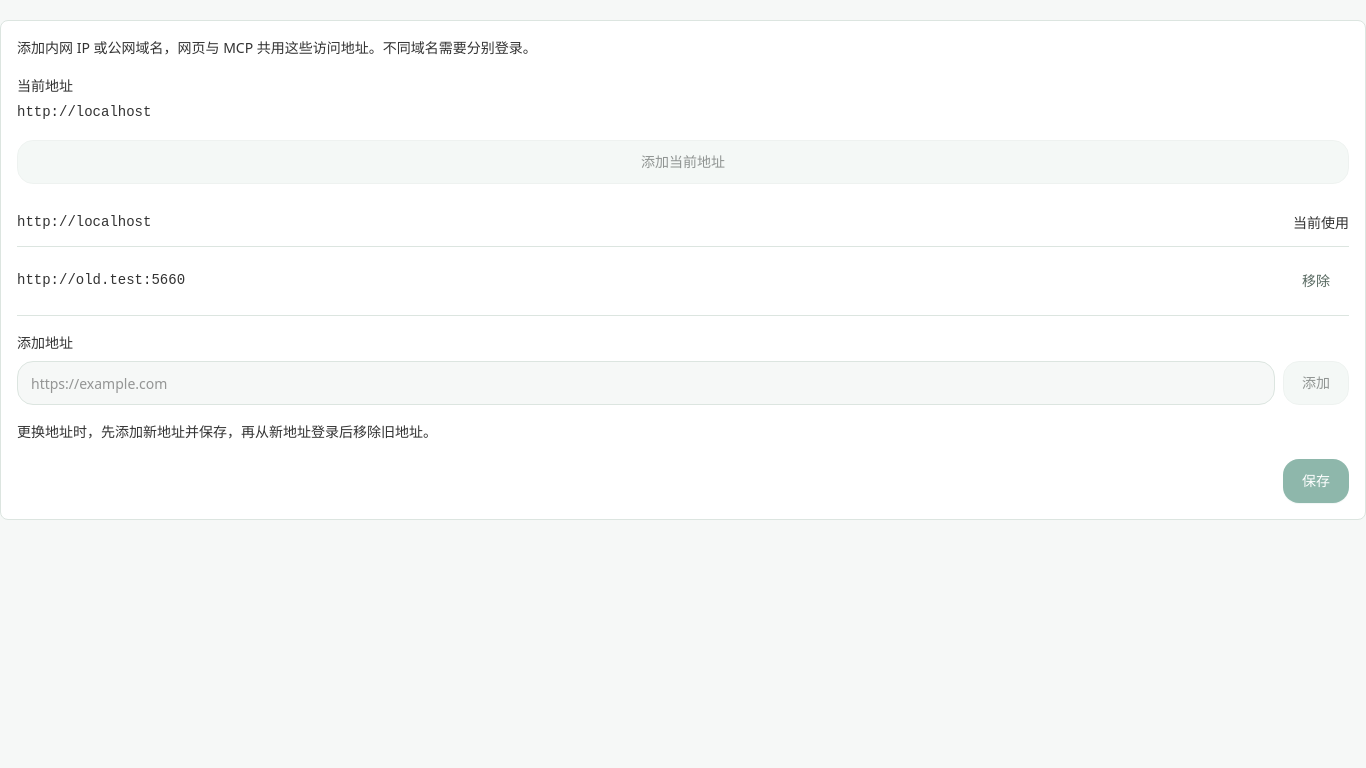
it: 访问地址编辑 › 更换入口时可以移除旧地址，保存失败保留草稿
Click the button with aria-label "移除 http://old.test:5660". click: (1316, 281)
box: [1283, 259, 1349, 303]
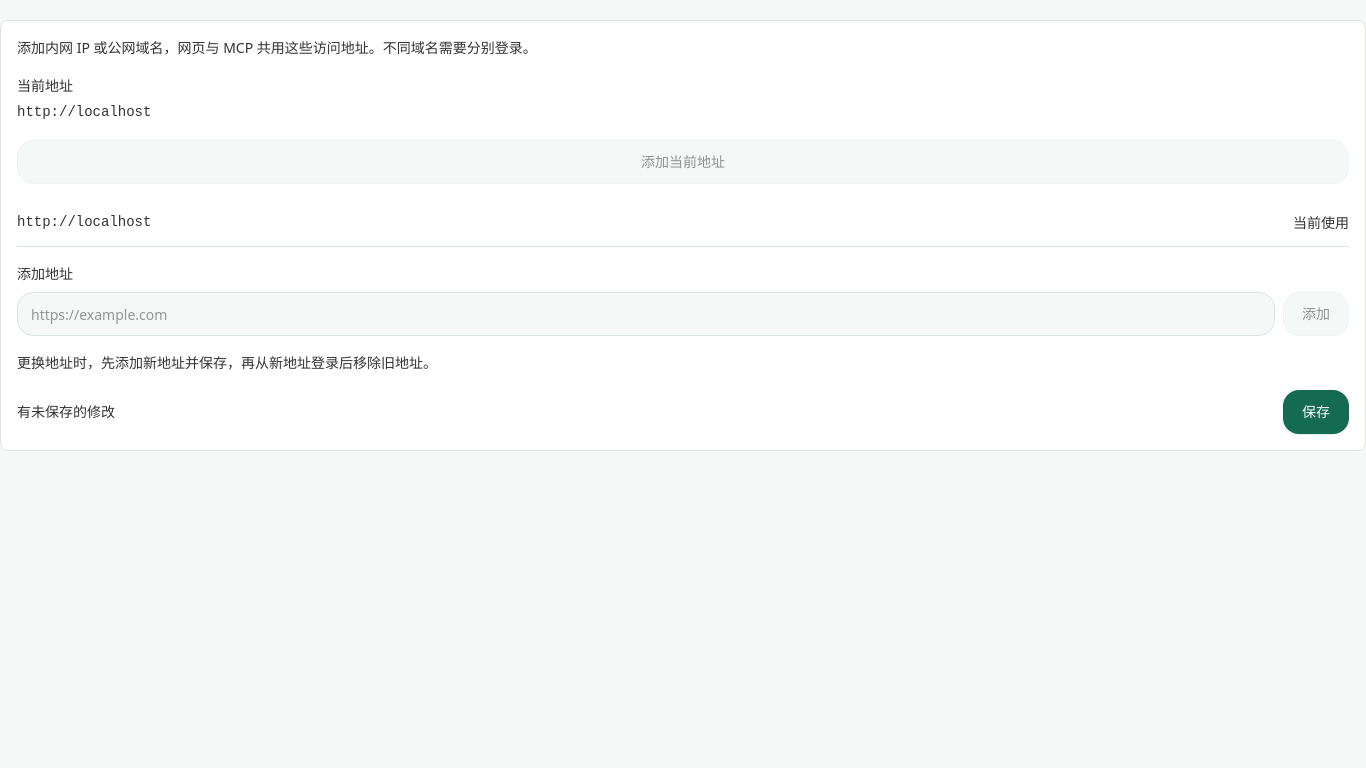
Type "https://new.test" into the field labelled "添加地址". click: (646, 314)
box: [17, 292, 1275, 336]
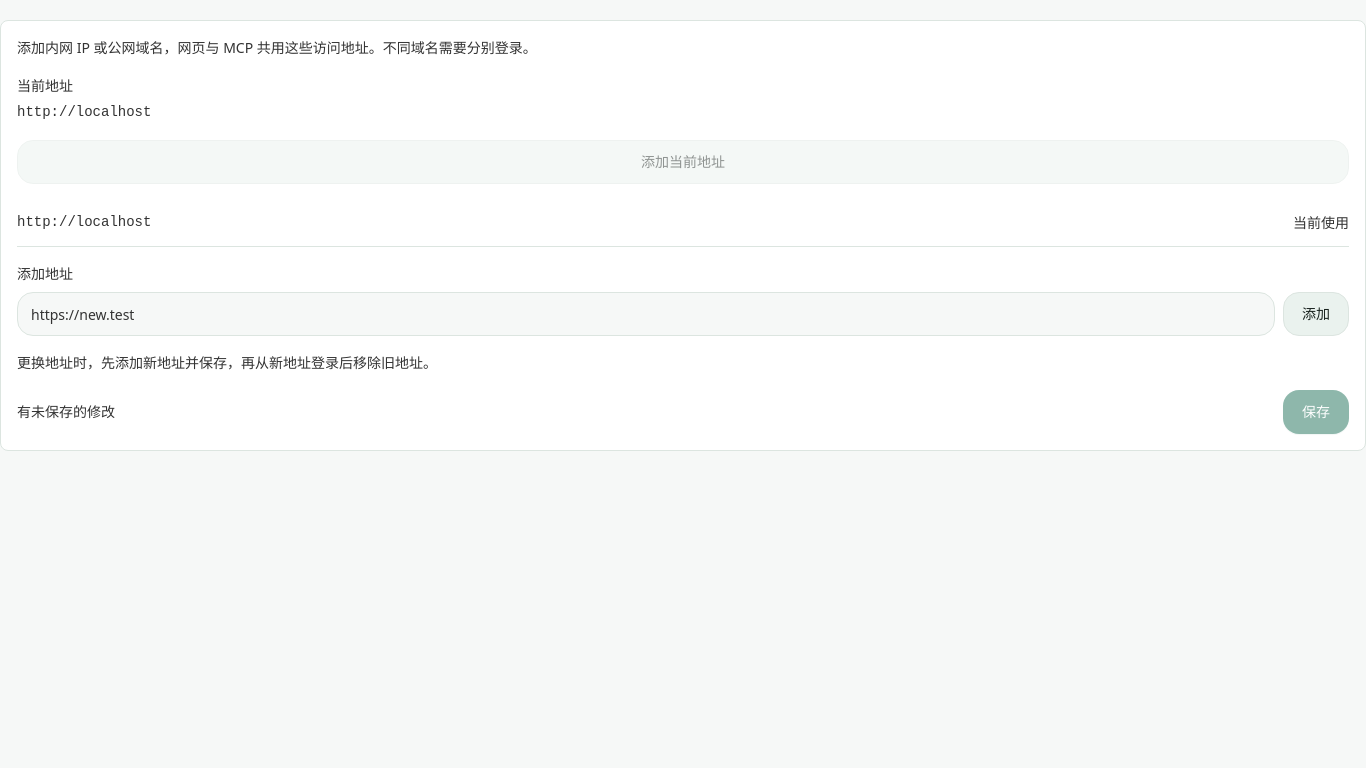
Click the button "添加". click: (1316, 314)
box: [1283, 292, 1349, 336]
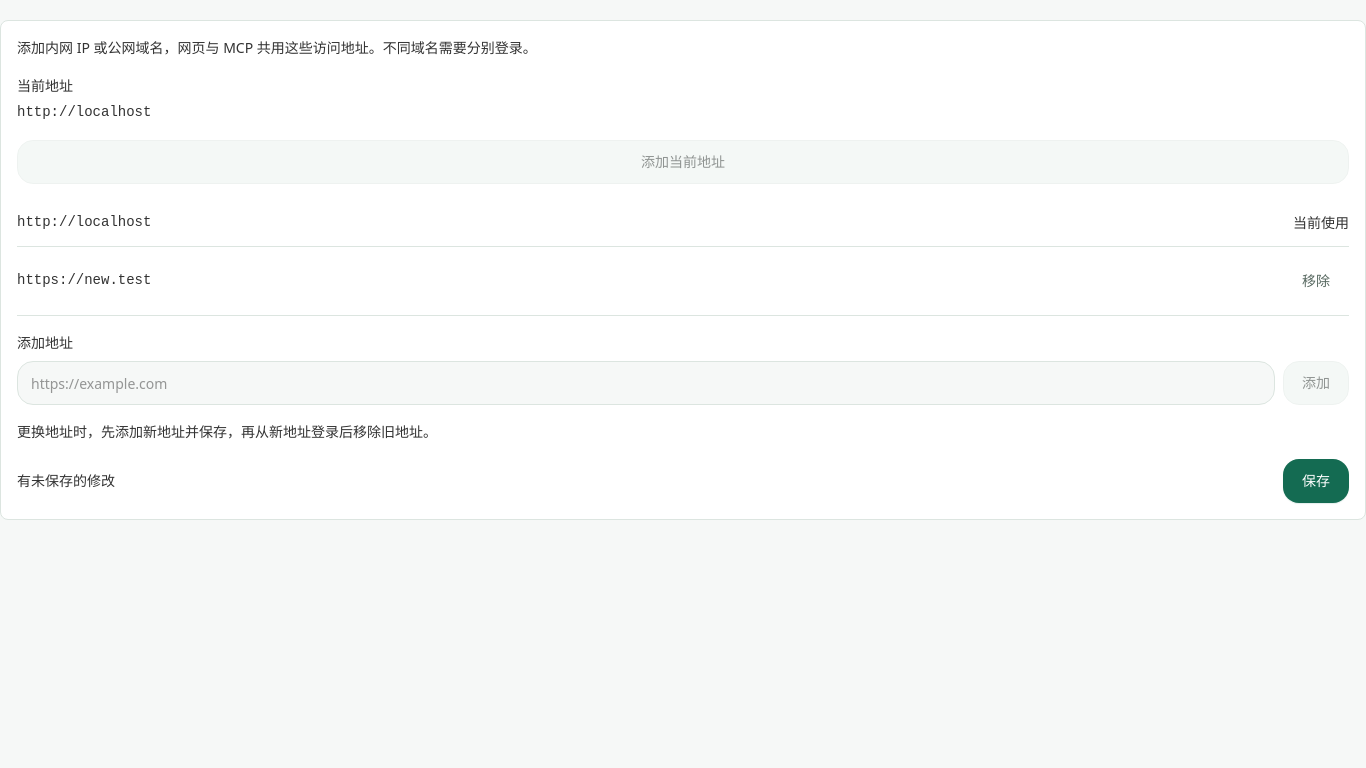
Click the button "保存". click: (1316, 481)
box: [1283, 459, 1349, 503]
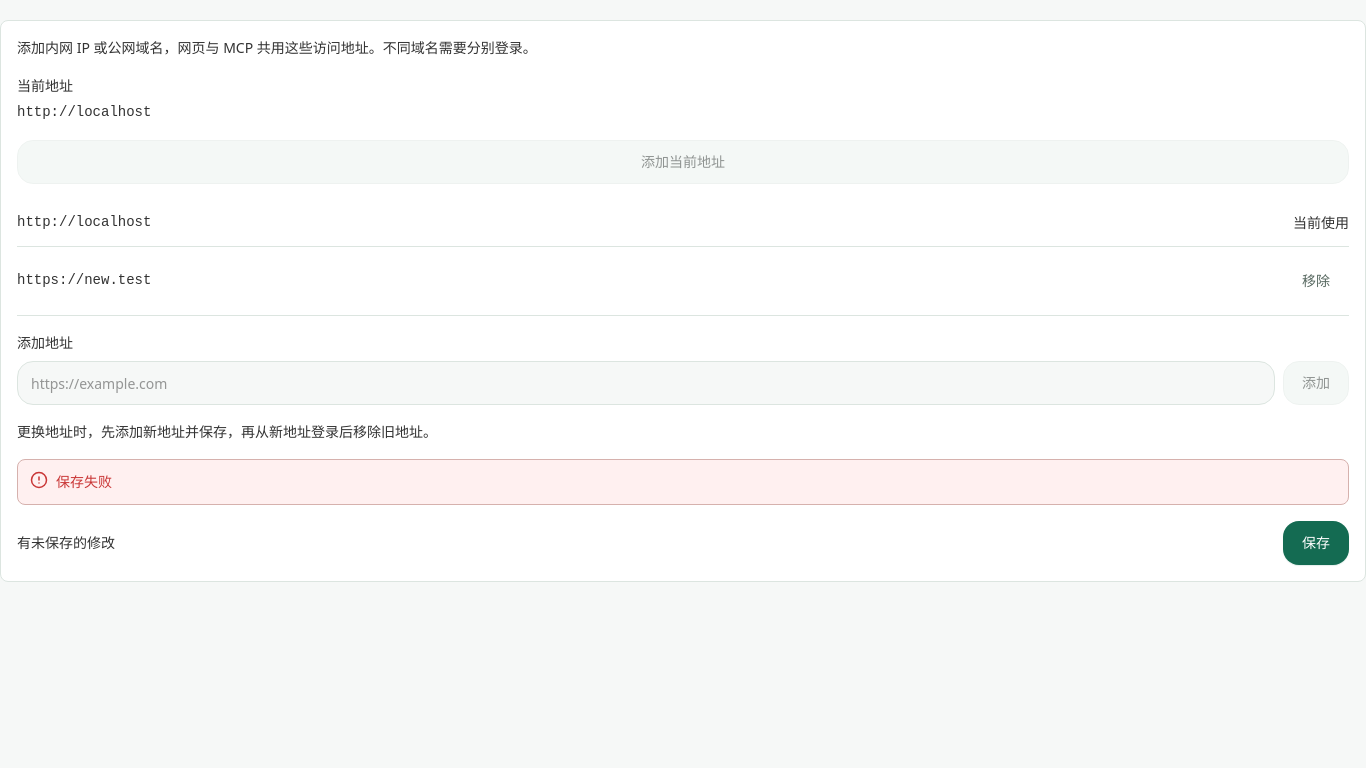
expect the text "http://old.test:5660" is not shown: met
expect the text "https://new.test" is shown: met, box [17, 270, 151, 292]
expect the message "保存失败" is shown: met, box [17, 459, 1349, 505]
